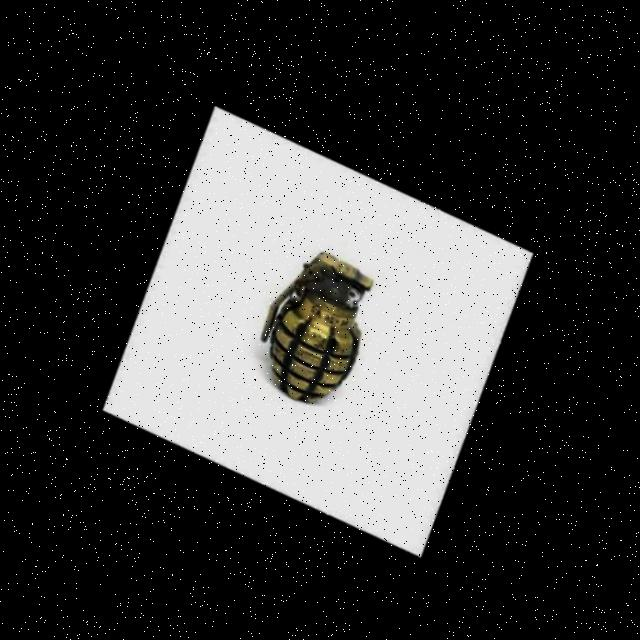grenade: (205, 211, 431, 426)
